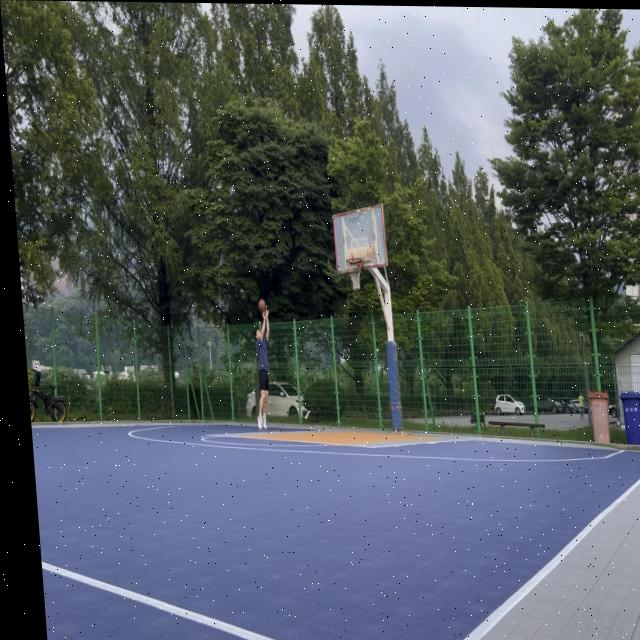basketball: (258, 298, 267, 313)
hoop: (345, 257, 365, 291)
